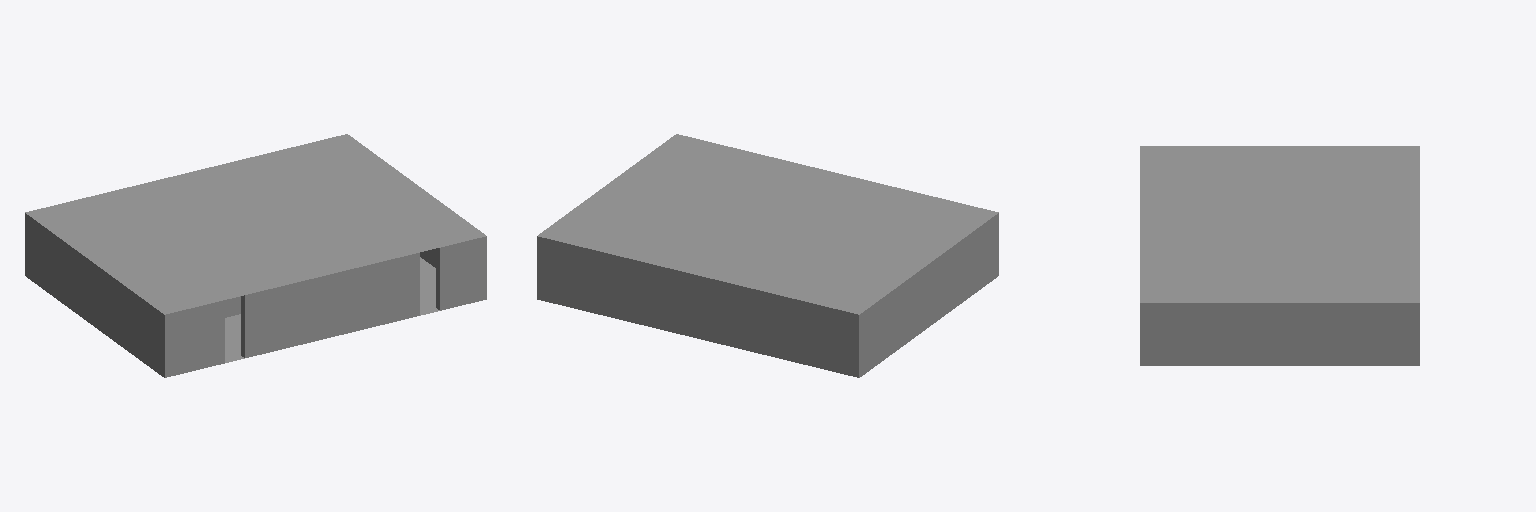
File: RoomLeft.obj
3 renders of one model, left to right at view 1: azimuth 30°, elevation 25°; view 2: azimuth 150°, elevation 25°; view 3: azimuth 270°, elevation 25°, orthographic.
Visible parts, largest first — view 1: Plane.001; view 2: Plane.001; view 3: Plane.001.
Boxes of the visible parts, x1,y1,x2,y2 form: Plane.001: [25, 134, 486, 377]; Plane.001: [537, 134, 998, 377]; Plane.001: [1140, 146, 1419, 365].
Size of the model in its own units: 48 by 9 by 36.